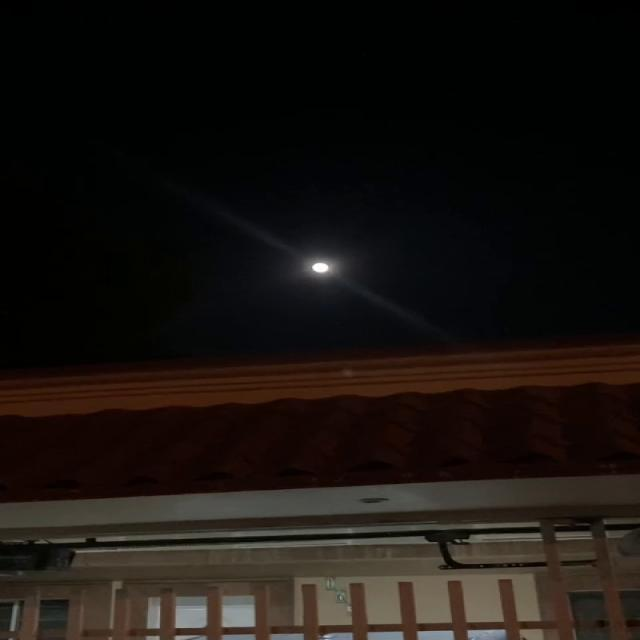moon: (309, 260, 333, 274)
